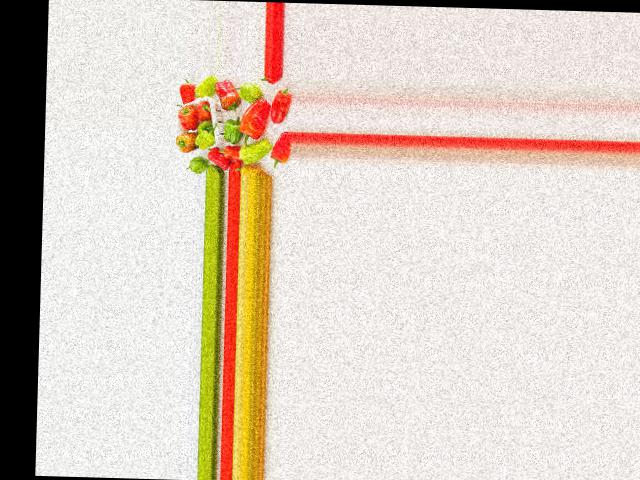bell_pepper: (267, 135, 291, 169)
